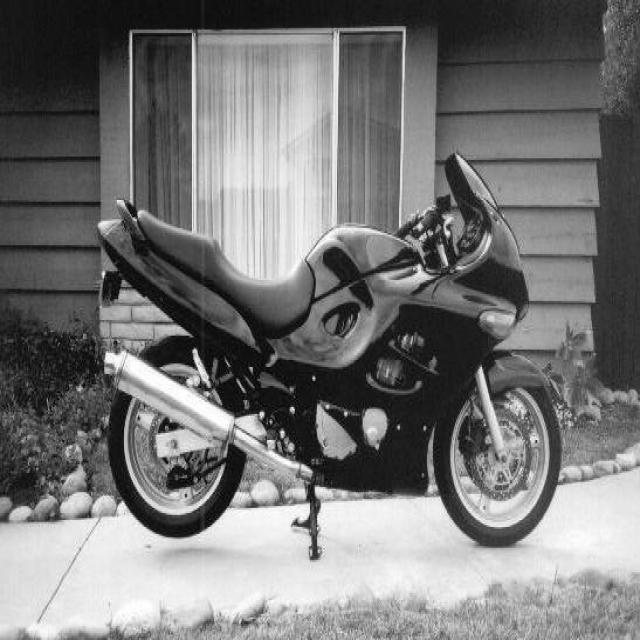Motorcycle: (99, 155, 562, 559)
